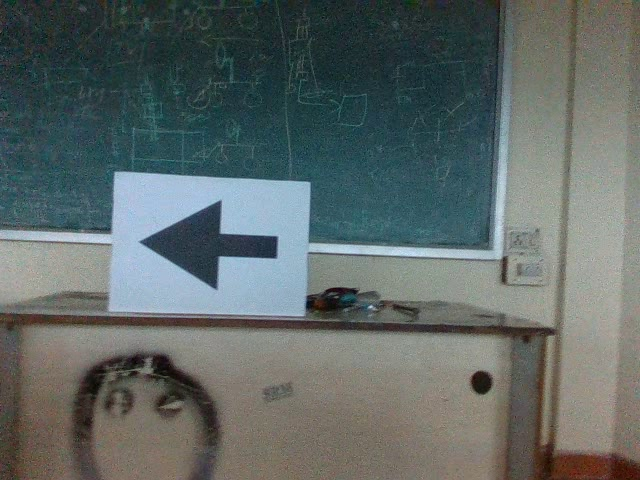Left: (135, 196, 288, 295)
